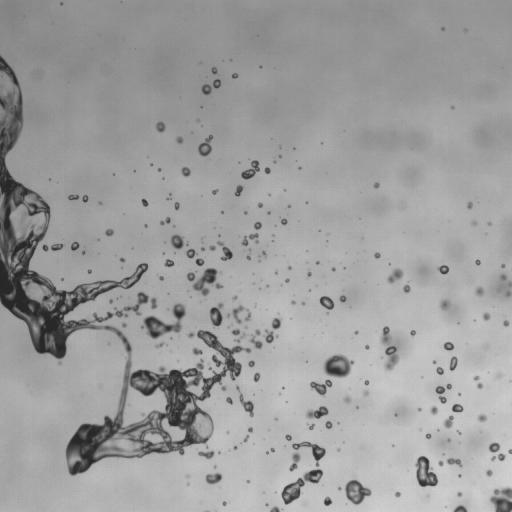droplet: (186, 268, 223, 297), (321, 354, 354, 378), (344, 476, 371, 505), (414, 456, 438, 488), (489, 486, 511, 511), (309, 377, 332, 397), (216, 240, 233, 261), (488, 442, 506, 461), (198, 134, 213, 156), (319, 296, 334, 315), (387, 267, 404, 283), (241, 233, 259, 246), (205, 472, 223, 484), (170, 234, 184, 249), (442, 415, 454, 428), (184, 248, 198, 258), (449, 356, 458, 371), (439, 299, 451, 310), (218, 70, 229, 81), (3, 151, 14, 162), (10, 170, 21, 181), (253, 209, 264, 220), (163, 225, 174, 236), (183, 237, 194, 248), (165, 246, 176, 257), (185, 259, 196, 270), (27, 260, 38, 271), (318, 262, 329, 273), (124, 264, 135, 275), (193, 266, 204, 277), (81, 273, 92, 284), (177, 294, 188, 305), (140, 304, 151, 315), (153, 308, 164, 319), (164, 313, 175, 324), (490, 313, 501, 324), (109, 316, 120, 327), (246, 320, 257, 331), (64, 335, 75, 346), (222, 337, 233, 348), (202, 345, 213, 356), (249, 348, 260, 359), (186, 356, 197, 367), (148, 363, 159, 374), (240, 365, 251, 376), (316, 371, 327, 382), (436, 374, 447, 385), (112, 377, 123, 388), (351, 392, 362, 403), (446, 392, 457, 403), (440, 404, 451, 415), (205, 439, 216, 450), (184, 443, 195, 454), (300, 446, 311, 457), (428, 461, 439, 472), (294, 466, 305, 477), (286, 471, 297, 482), (453, 479, 464, 490), (301, 481, 312, 492), (437, 264, 449, 274), (442, 341, 454, 351), (201, 84, 211, 95), (155, 121, 165, 132), (234, 185, 244, 196), (474, 286, 484, 297), (191, 346, 203, 355), (451, 403, 463, 412), (181, 166, 190, 177), (160, 216, 171, 225), (70, 241, 79, 251), (164, 258, 174, 267), (342, 394, 351, 404), (429, 405, 438, 415), (323, 496, 332, 506), (253, 221, 262, 230), (306, 422, 315, 431), (242, 161, 251, 170), (255, 169, 264, 178), (167, 208, 176, 217), (384, 266, 393, 275), (36, 267, 45, 276), (279, 268, 288, 277), (396, 277, 405, 286), (499, 281, 508, 290), (132, 283, 141, 292), (128, 296, 137, 305), (62, 313, 71, 322), (135, 315, 144, 324), (210, 325, 219, 334), (160, 331, 169, 340), (240, 338, 249, 347), (195, 339, 204, 348), (232, 352, 241, 361), (316, 360, 325, 369), (177, 362, 186, 371), (202, 369, 211, 378), (221, 374, 230, 383), (329, 374, 338, 383), (195, 442, 204, 451), (497, 480, 506, 489), (274, 497, 283, 506), (452, 497, 461, 506), (213, 78, 221, 88), (194, 258, 204, 266), (477, 414, 487, 422), (67, 194, 79, 200), (105, 228, 114, 236), (482, 312, 490, 321), (253, 372, 260, 382), (281, 505, 292, 511), (322, 505, 333, 511), (350, 505, 361, 511), (485, 505, 496, 511), (175, 136, 183, 144), (279, 217, 287, 225), (141, 198, 148, 207), (173, 201, 180, 210), (403, 284, 410, 293), (436, 366, 443, 375), (226, 396, 233, 405), (325, 420, 332, 429), (339, 294, 346, 302), (502, 319, 509, 327), (495, 372, 503, 379), (0, 303, 5, 314), (42, 244, 49, 251), (499, 273, 506, 280), (504, 290, 511, 297), (248, 360, 255, 367), (4, 56, 11, 63), (21, 107, 28, 114), (12, 142, 19, 149), (258, 162, 265, 169), (239, 178, 246, 185), (23, 181, 30, 188), (260, 205, 267, 212), (53, 237, 60, 244), (36, 240, 43, 247), (63, 243, 70, 250), (180, 244, 187, 251), (390, 262, 397, 269), (501, 267, 508, 274), (284, 270, 291, 277), (214, 274, 221, 281), (473, 280, 480, 287), (202, 281, 209, 288), (55, 284, 62, 291), (65, 284, 72, 291), (482, 284, 489, 291), (112, 286, 119, 293), (468, 286, 475, 293), (482, 290, 489, 297), (439, 293, 446, 300), (473, 294, 480, 301), (332, 297, 339, 304), (433, 299, 440, 306), (447, 304, 454, 311), (183, 306, 190, 313), (484, 306, 491, 313), (219, 308, 226, 315), (127, 309, 134, 316), (237, 311, 244, 318), (179, 316, 186, 323), (220, 317, 227, 324), (105, 318, 112, 325), (18, 319, 25, 326), (232, 322, 239, 329), (141, 326, 148, 333), (120, 327, 127, 334), (168, 329, 175, 336), (109, 331, 116, 338), (24, 334, 31, 341), (145, 334, 152, 341), (155, 335, 162, 342), (258, 335, 265, 342), (115, 337, 122, 344), (389, 339, 396, 346), (118, 342, 125, 349), (247, 342, 254, 349), (27, 343, 34, 350), (209, 347, 216, 354), (333, 348, 340, 355), (447, 349, 454, 356), (43, 351, 50, 358), (325, 351, 332, 358), (246, 353, 253, 360), (345, 353, 352, 360), (382, 354, 389, 361), (119, 359, 126, 366), (188, 361, 195, 368), (393, 362, 400, 369), (139, 363, 146, 370), (442, 363, 449, 370), (349, 364, 356, 371), (129, 365, 136, 372), (118, 366, 125, 373), (215, 366, 222, 373), (249, 366, 256, 373), (212, 382, 219, 389), (114, 389, 121, 396), (222, 390, 229, 397), (339, 390, 346, 397), (231, 395, 238, 402), (455, 397, 462, 404), (195, 399, 202, 406), (349, 399, 356, 406), (434, 400, 441, 407), (445, 400, 452, 407), (341, 402, 348, 409), (423, 406, 430, 413), (300, 407, 307, 414), (108, 412, 115, 419), (485, 412, 492, 419), (320, 414, 327, 421), (310, 416, 317, 423), (97, 418, 104, 425), (438, 423, 445, 430), (67, 430, 74, 437), (291, 436, 298, 443), (182, 444, 189, 451), (305, 446, 312, 453), (498, 446, 505, 453), (171, 449, 178, 456), (504, 452, 511, 459), (208, 456, 215, 463), (89, 462, 96, 469), (62, 467, 69, 474), (209, 468, 216, 475), (75, 471, 82, 478), (303, 480, 310, 487), (291, 498, 298, 505), (82, 194, 88, 202), (208, 245, 216, 251), (486, 469, 492, 477), (506, 271, 511, 280), (218, 506, 227, 511), (211, 67, 217, 74), (264, 166, 270, 173), (362, 390, 369, 396), (247, 426, 253, 433), (285, 434, 291, 441), (394, 491, 401, 497), (301, 499, 307, 506), (166, 192, 171, 200), (467, 201, 472, 209), (373, 182, 379, 188), (212, 188, 218, 194), (471, 220, 477, 226), (374, 252, 380, 258), (425, 433, 431, 439), (456, 491, 462, 497), (0, 193, 4, 202), (410, 330, 415, 337), (232, 73, 238, 78), (257, 202, 263, 207), (119, 257, 125, 262), (475, 259, 480, 265), (286, 265, 292, 270), (232, 295, 237, 301), (290, 300, 296, 305), (121, 322, 127, 327), (456, 429, 461, 435), (438, 460, 443, 466), (507, 481, 511, 488), (200, 246, 205, 251), (315, 260, 320, 265), (364, 380, 369, 385), (446, 437, 451, 442), (270, 447, 275, 452), (216, 68, 221, 73), (212, 74, 217, 79), (16, 76, 21, 81), (208, 81, 213, 86), (210, 86, 215, 91), (198, 90, 203, 95), (201, 93, 206, 98), (21, 97, 26, 102), (163, 127, 168, 132), (153, 129, 158, 134), (158, 131, 163, 136), (176, 131, 181, 136), (182, 138, 187, 143), (199, 138, 204, 143), (208, 140, 213, 145), (175, 142, 180, 147), (194, 142, 199, 147), (277, 149, 282, 154), (194, 150, 199, 155), (207, 152, 212, 157), (201, 155, 206, 160), (251, 155, 256, 160), (274, 156, 279, 161), (186, 163, 191, 168), (152, 164, 157, 169), (269, 167, 274, 172), (189, 170, 194, 175), (254, 171, 259, 176), (236, 172, 241, 177), (184, 175, 189, 180), (247, 177, 252, 182), (369, 180, 374, 185), (231, 186, 236, 191), (240, 189, 245, 194), (37, 190, 42, 195), (71, 190, 76, 195), (77, 196, 82, 201), (46, 200, 51, 205), (137, 200, 142, 205), (462, 202, 467, 207), (471, 202, 476, 207), (49, 208, 54, 213), (466, 208, 471, 213), (160, 216, 165, 221), (255, 216, 260, 221), (252, 217, 257, 222), (48, 218, 53, 223), (260, 220, 265, 225), (276, 221, 281, 226), (163, 222, 168, 227), (108, 224, 113, 229), (100, 228, 105, 233), (215, 228, 220, 233), (251, 228, 256, 233), (177, 231, 182, 236), (108, 234, 113, 239), (257, 235, 262, 240), (218, 236, 223, 241), (238, 236, 243, 241), (181, 238, 186, 243), (247, 238, 252, 243), (204, 245, 209, 250), (171, 246, 176, 251), (76, 247, 81, 252), (194, 247, 199, 252), (229, 247, 234, 252), (374, 247, 379, 252), (47, 248, 52, 253), (208, 249, 213, 254), (219, 251, 224, 256), (369, 253, 374, 258), (192, 254, 197, 259), (259, 254, 264, 259), (114, 256, 119, 261), (160, 258, 165, 263), (118, 261, 123, 266), (328, 262, 333, 267), (193, 263, 198, 268), (169, 265, 174, 270), (435, 270, 440, 275), (140, 273, 145, 278), (182, 275, 187, 280), (495, 275, 500, 280), (115, 276, 120, 281), (154, 276, 159, 281), (383, 279, 388, 284), (503, 279, 508, 284), (260, 282, 265, 287), (253, 283, 258, 288), (409, 286, 414, 291), (106, 289, 111, 294), (143, 289, 148, 294), (399, 289, 404, 294), (338, 290, 343, 295), (229, 291, 234, 296), (323, 291, 328, 296), (343, 291, 348, 296), (96, 293, 101, 298), (155, 299, 160, 304), (295, 299, 300, 304), (84, 300, 89, 305), (146, 300, 151, 305), (212, 302, 217, 307), (242, 302, 247, 307), (233, 303, 238, 308), (116, 305, 121, 310), (168, 305, 173, 310), (248, 306, 253, 311), (321, 306, 326, 311), (436, 306, 441, 311), (109, 308, 114, 313), (328, 308, 333, 313), (101, 312, 106, 317), (274, 313, 279, 318), (489, 313, 494, 318), (111, 314, 116, 319), (89, 315, 94, 320), (119, 315, 124, 320), (478, 315, 483, 320), (486, 318, 491, 323), (498, 319, 503, 324), (93, 320, 98, 325), (101, 320, 106, 325), (241, 320, 246, 325), (245, 320, 250, 325), (279, 321, 284, 326), (267, 325, 272, 330), (118, 326, 123, 331), (89, 328, 94, 333), (272, 328, 277, 333), (192, 329, 197, 334), (378, 329, 383, 334), (192, 334, 197, 339), (126, 336, 131, 341), (216, 336, 221, 341), (272, 337, 277, 342), (443, 337, 448, 342), (129, 342, 134, 347), (383, 343, 388, 348), (227, 344, 232, 349), (187, 347, 192, 352), (394, 349, 399, 354), (122, 350, 127, 355), (196, 353, 201, 358), (60, 356, 65, 361), (210, 361, 215, 366), (432, 363, 437, 368), (164, 369, 169, 374), (239, 369, 244, 374), (471, 371, 476, 376), (248, 374, 253, 379), (234, 375, 239, 380), (257, 377, 262, 382), (320, 379, 325, 384), (473, 379, 478, 384), (305, 383, 310, 388), (363, 384, 368, 389), (480, 386, 485, 391), (239, 387, 244, 392), (475, 387, 480, 392), (208, 388, 213, 393), (311, 388, 316, 393), (434, 392, 439, 397), (440, 392, 445, 397), (243, 396, 248, 401), (203, 397, 208, 402), (251, 399, 256, 404), (325, 404, 330, 409), (239, 405, 244, 410), (313, 405, 318, 410), (251, 407, 256, 412), (479, 409, 484, 414), (244, 410, 249, 415), (208, 411, 213, 416), (451, 411, 456, 416), (473, 413, 478, 418), (480, 420, 485, 425), (212, 421, 217, 426), (331, 421, 336, 426), (323, 427, 328, 432), (212, 428, 217, 433), (240, 433, 245, 438), (246, 437, 251, 442), (282, 438, 287, 443), (295, 438, 300, 443), (495, 438, 500, 443), (205, 439, 210, 444), (310, 439, 315, 444), (487, 439, 492, 444), (317, 442, 322, 447), (337, 442, 342, 447), (484, 443, 489, 448), (291, 448, 296, 453), (151, 451, 156, 456), (493, 451, 498, 456), (212, 452, 217, 457), (424, 453, 429, 458), (309, 454, 314, 459), (452, 454, 457, 459), (200, 455, 205, 460), (111, 456, 116, 461), (118, 456, 123, 461), (132, 456, 137, 461), (100, 457, 105, 462), (126, 457, 131, 462), (318, 457, 323, 462), (412, 457, 417, 462), (441, 457, 446, 462), (494, 457, 499, 462), (288, 459, 293, 464), (442, 460, 447, 465), (451, 462, 456, 467), (312, 465, 317, 470), (412, 465, 417, 470), (215, 468, 220, 473), (481, 470, 486, 475), (411, 471, 416, 476), (491, 471, 496, 476), (435, 473, 440, 478), (348, 475, 353, 480), (182, 477, 187, 482), (188, 477, 193, 482), (318, 477, 323, 482), (201, 478, 206, 483), (413, 479, 418, 484), (216, 480, 221, 485), (283, 480, 288, 485), (361, 482, 366, 487), (416, 484, 421, 489), (425, 484, 430, 489), (278, 486, 283, 491), (299, 486, 304, 491), (456, 486, 461, 491), (340, 488, 345, 493), (370, 489, 375, 494), (461, 491, 466, 496), (489, 491, 494, 496), (298, 493, 303, 498), (329, 495, 334, 500), (363, 495, 368, 500), (319, 498, 324, 503), (346, 499, 351, 504), (358, 501, 363, 506), (452, 503, 457, 508), (267, 504, 272, 509), (464, 504, 469, 509), (186, 480, 190, 486), (243, 210, 247, 215), (501, 263, 505, 268), (274, 269, 278, 274), (285, 278, 289, 283), (109, 298, 113, 303), (244, 324, 248, 329), (365, 344, 369, 349), (417, 407, 422, 411), (394, 412, 398, 417), (233, 445, 237, 450), (336, 447, 340, 452), (213, 464, 217, 469), (185, 474, 190, 478), (222, 501, 226, 506), (508, 448, 511, 454), (441, 27, 445, 31), (463, 28, 467, 32), (450, 105, 454, 109), (196, 118, 200, 122), (278, 154, 282, 158), (157, 168, 161, 172), (98, 201, 102, 205), (487, 221, 491, 225), (331, 267, 335, 271), (87, 269, 91, 273), (301, 301, 305, 305), (354, 330, 358, 334), (432, 360, 436, 364), (274, 417, 278, 421), (217, 450, 221, 454), (246, 479, 250, 483), (337, 486, 341, 490), (286, 204, 291, 207), (144, 223, 147, 228), (508, 286, 511, 291), (508, 294, 511, 299), (508, 321, 511, 326), (508, 444, 511, 449), (149, 163, 153, 166), (220, 210, 223, 214), (326, 232, 330, 235), (82, 250, 85, 254), (60, 277, 63, 281), (380, 355, 383, 359), (304, 360, 308, 363), (278, 391, 281, 395), (458, 392, 461, 396), (356, 405, 359, 409), (336, 421, 340, 424), (226, 430, 229, 434), (265, 502, 268, 506), (444, 505, 447, 509), (279, 144, 281, 149), (186, 241, 188, 246), (60, 2, 63, 5), (259, 65, 262, 68), (273, 160, 276, 163), (298, 166, 301, 169), (268, 193, 271, 196), (305, 201, 308, 204), (267, 211, 270, 214), (172, 224, 175, 227), (272, 234, 275, 237), (97, 238, 100, 241), (163, 241, 166, 244), (258, 259, 261, 262), (388, 262, 391, 265), (120, 266, 123, 269), (343, 266, 346, 269), (266, 284, 269, 287), (258, 287, 261, 290), (308, 289, 311, 292), (166, 292, 169, 295), (107, 342, 110, 345), (176, 359, 179, 362), (420, 375, 423, 378), (282, 386, 285, 389), (419, 428, 422, 431), (458, 474, 461, 477), (56, 2, 59, 5), (62, 2, 65, 5), (440, 23, 443, 26), (444, 27, 447, 30), (438, 28, 441, 31), (259, 62, 262, 65), (257, 67, 260, 70), (231, 70, 234, 73), (235, 70, 238, 73), (209, 71, 212, 74), (228, 74, 231, 77), (237, 74, 240, 77), (234, 77, 237, 80), (220, 81, 223, 84), (199, 102, 202, 105), (198, 107, 201, 110), (198, 121, 201, 124), (205, 134, 208, 137), (293, 144, 296, 147), (289, 146, 292, 149), (294, 148, 297, 151), (271, 157, 274, 160), (148, 160, 151, 163), (152, 161, 155, 164), (158, 164, 161, 167), (295, 164, 298, 167), (130, 167, 133, 170), (160, 168, 163, 171), (296, 168, 299, 171), (299, 168, 302, 171), (111, 169, 114, 172), (135, 169, 138, 172), (131, 171, 134, 174), (157, 171, 160, 174), (114, 172, 117, 175), (267, 172, 270, 175), (109, 173, 112, 176), (48, 174, 51, 177), (112, 175, 115, 178), (164, 176, 167, 179), (45, 178, 48, 181), (50, 178, 53, 181), (160, 179, 163, 182), (375, 179, 378, 182), (378, 184, 381, 187), (283, 185, 286, 188), (212, 186, 215, 189), (167, 189, 170, 192), (280, 189, 283, 192), (215, 191, 218, 194), (209, 192, 212, 195), (270, 193, 273, 196), (166, 194, 169, 197), (170, 194, 173, 197), (235, 195, 238, 198), (266, 195, 269, 198), (304, 197, 307, 200), (72, 198, 75, 201), (87, 198, 90, 201), (99, 198, 102, 201), (145, 198, 148, 201), (164, 199, 167, 202), (260, 200, 263, 203), (83, 201, 86, 204), (287, 201, 290, 204), (96, 203, 99, 206), (284, 203, 287, 206), (306, 203, 309, 206), (171, 204, 174, 207), (290, 204, 293, 207), (244, 207, 247, 210), (258, 207, 261, 210), (287, 207, 290, 210), (223, 210, 226, 213), (247, 210, 250, 213), (240, 211, 243, 214), (270, 211, 273, 214), (218, 212, 221, 215), (244, 214, 247, 217), (267, 214, 270, 217), (280, 215, 283, 218), (283, 215, 286, 218), (286, 218, 289, 221), (169, 219, 172, 222), (156, 220, 159, 223), (146, 222, 149, 225), (285, 222, 288, 225), (484, 222, 487, 225), (159, 224, 162, 227), (141, 225, 144, 228), (315, 227, 318, 230), (317, 231, 320, 234), (220, 233, 223, 236), (270, 236, 273, 239), (325, 236, 328, 239), (74, 238, 77, 241), (268, 239, 271, 242), (271, 241, 274, 244), (242, 244, 245, 247), (47, 246, 50, 249), (54, 249, 57, 252), (73, 249, 76, 252), (84, 250, 87, 253), (264, 250, 267, 253), (378, 250, 381, 253), (159, 251, 162, 254), (259, 252, 262, 255), (249, 254, 252, 257), (122, 255, 125, 258), (168, 256, 171, 259), (230, 256, 233, 259), (243, 256, 246, 259), (376, 257, 379, 260), (473, 257, 476, 260), (226, 258, 229, 261), (313, 258, 316, 261), (386, 259, 389, 262), (479, 259, 482, 262), (144, 260, 147, 263), (173, 260, 176, 263), (319, 260, 322, 263), (500, 260, 503, 263), (137, 261, 140, 264), (444, 262, 447, 265), (285, 263, 288, 266), (289, 263, 292, 266), (317, 263, 320, 266), (343, 263, 346, 266), (438, 263, 441, 266), (473, 263, 476, 266), (478, 263, 481, 266), (498, 263, 501, 266), (504, 263, 507, 266), (447, 264, 450, 267), (147, 265, 150, 268), (165, 265, 168, 268), (87, 266, 90, 269), (334, 266, 337, 269), (344, 268, 347, 271), (329, 269, 332, 272), (84, 270, 87, 273), (271, 270, 274, 273), (277, 270, 280, 273), (310, 271, 313, 274), (446, 271, 449, 274), (159, 272, 162, 275), (127, 273, 130, 276), (304, 273, 307, 276), (442, 273, 445, 276), (60, 274, 63, 277), (308, 275, 311, 278), (283, 276, 286, 279), (63, 277, 66, 280), (93, 278, 96, 281), (100, 278, 103, 281), (158, 279, 161, 282), (281, 279, 284, 282), (288, 279, 291, 282), (266, 281, 269, 284), (407, 282, 410, 285), (219, 287, 222, 290), (265, 287, 268, 290), (305, 287, 308, 290), (169, 291, 172, 294), (307, 291, 310, 294), (320, 293, 323, 296), (317, 295, 320, 298), (292, 297, 295, 300), (112, 298, 115, 301), (344, 299, 347, 302), (287, 300, 290, 303), (304, 300, 307, 303), (341, 301, 344, 304), (256, 304, 259, 307), (292, 304, 295, 307), (250, 313, 253, 316), (456, 318, 459, 321), (505, 325, 508, 328), (352, 328, 355, 331), (407, 329, 410, 332), (415, 330, 418, 333), (407, 332, 410, 335), (352, 333, 355, 336), (355, 333, 358, 336), (414, 333, 417, 336), (451, 341, 454, 344), (363, 342, 366, 345), (162, 343, 165, 346), (368, 344, 371, 347), (158, 346, 161, 349), (364, 348, 367, 351), (303, 357, 306, 360), (433, 357, 436, 360), (252, 358, 255, 361), (307, 360, 310, 363), (429, 360, 432, 363), (456, 361, 459, 364), (253, 363, 256, 366), (454, 366, 457, 369), (451, 369, 454, 372), (436, 373, 439, 376), (440, 373, 443, 376), (308, 379, 311, 382), (361, 380, 364, 383), (368, 380, 371, 383), (283, 384, 286, 387), (451, 384, 454, 387), (238, 385, 241, 388), (278, 385, 281, 388), (432, 387, 435, 390), (280, 389, 283, 392), (458, 389, 461, 392), (368, 392, 371, 395), (460, 393, 463, 396), (364, 395, 367, 398), (223, 396, 226, 399), (287, 399, 290, 402), (227, 402, 230, 405), (418, 404, 421, 407), (358, 405, 361, 408), (462, 405, 465, 408), (414, 408, 417, 411), (419, 410, 422, 413), (396, 411, 399, 414), (274, 414, 277, 417), (391, 414, 394, 417), (277, 416, 280, 419), (211, 417, 214, 420), (337, 418, 340, 421), (451, 418, 454, 421), (272, 419, 275, 422), (312, 425, 315, 428), (329, 427, 332, 430), (458, 428, 461, 431), (308, 429, 311, 432), (425, 430, 428, 433), (246, 431, 249, 434), (286, 431, 289, 434), (454, 431, 457, 434), (430, 433, 433, 436), (422, 434, 425, 437), (444, 436, 447, 439), (424, 437, 427, 440), (240, 438, 243, 441), (242, 441, 245, 444), (392, 441, 395, 444), (446, 441, 449, 444), (233, 442, 236, 445), (388, 443, 391, 446), (236, 444, 239, 447), (230, 445, 233, 448), (391, 446, 394, 449), (273, 447, 276, 450), (220, 449, 223, 452), (339, 449, 342, 452), (268, 450, 271, 453), (263, 452, 266, 455), (180, 454, 183, 457), (124, 457, 127, 460), (460, 461, 463, 464), (460, 474, 463, 477), (455, 475, 458, 478), (245, 476, 248, 479), (249, 479, 252, 482), (243, 480, 246, 483), (397, 489, 400, 492), (454, 491, 457, 494), (398, 495, 401, 498), (224, 498, 227, 501), (219, 501, 222, 504), (262, 501, 265, 504), (225, 502, 228, 505), (328, 503, 331, 506), (162, 176, 164, 180), (173, 251, 175, 255), (229, 58, 231, 61), (200, 106, 203, 108), (320, 142, 323, 144), (133, 169, 135, 172), (112, 173, 115, 175), (283, 189, 286, 191), (318, 229, 321, 231), (218, 234, 220, 237), (271, 240, 274, 242), (131, 247, 134, 249), (305, 250, 308, 252), (252, 282, 255, 284), (280, 283, 282, 286), (289, 317, 292, 319), (473, 319, 476, 321), (457, 322, 460, 324), (170, 336, 172, 339), (169, 350, 172, 352), (392, 444, 394, 447), (442, 453, 445, 455), (274, 491, 277, 493), (214, 509, 217, 511), (293, 147, 295, 149), (238, 161, 240, 163), (274, 224, 276, 226), (361, 237, 363, 239), (326, 240, 328, 242), (306, 261, 308, 263), (189, 296, 191, 298), (509, 380, 511, 382), (437, 429, 439, 431), (228, 449, 230, 451), (59, 0, 62, 1), (49, 178, 50, 180), (252, 273, 254, 274), (407, 281, 409, 282), (343, 441, 344, 443), (345, 503, 347, 504), (359, 218, 360, 219), (285, 401, 286, 402)
ligament: (281, 441, 326, 505), (379, 326, 399, 370), (262, 312, 282, 343), (236, 385, 254, 417), (209, 302, 223, 329), (241, 160, 259, 179), (305, 406, 328, 419), (446, 457, 462, 467), (473, 375, 483, 389), (51, 243, 65, 251), (154, 340, 168, 348), (452, 504, 467, 511), (240, 434, 249, 444), (269, 506, 283, 511), (156, 273, 164, 281), (246, 248, 251, 260), (306, 268, 311, 279), (422, 493, 429, 500), (227, 322, 232, 329), (116, 295, 122, 300), (508, 281, 511, 288), (161, 252, 165, 256), (254, 302, 256, 308), (187, 290, 191, 292), (266, 451, 268, 455), (204, 510, 210, 511)
